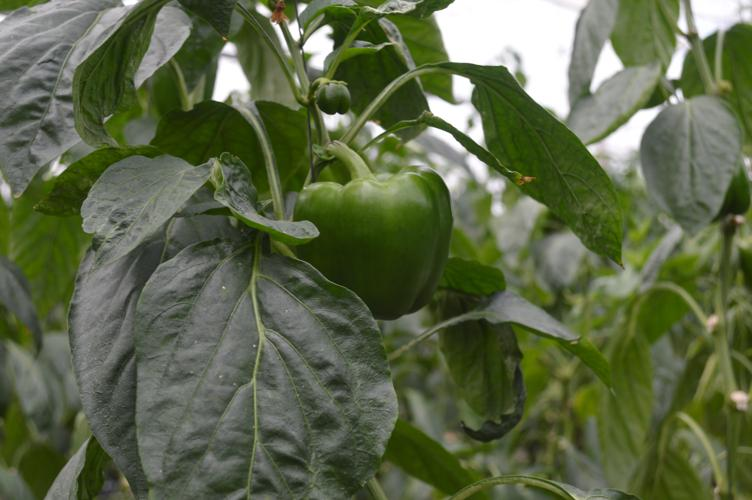BellPepper: (293, 166, 448, 312)
